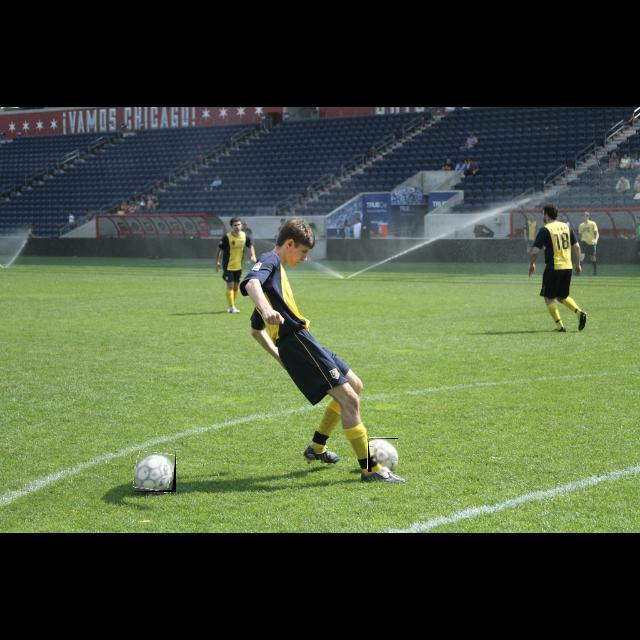Football: (134, 452, 176, 492), (368, 438, 398, 472)
